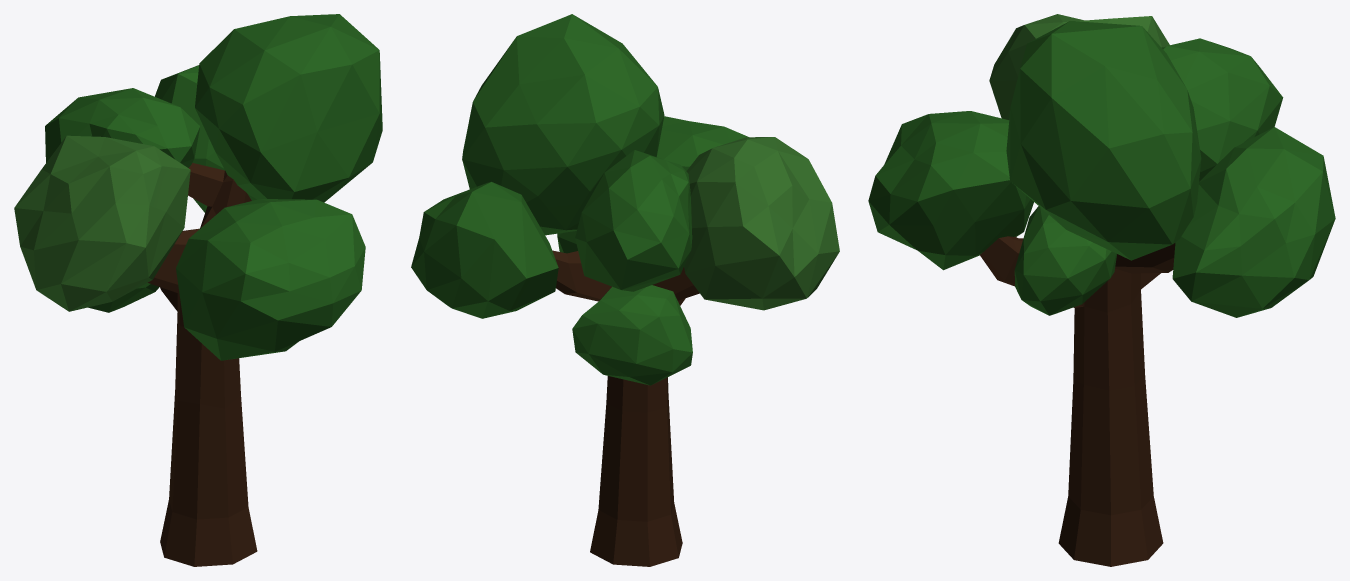
Rendered from Tree1.FBX.
3 views of the same model, side by side, from view 1: azimuth 30°, elevation 25°; view 2: azimuth 150°, elevation 25°; view 3: azimuth 270°, elevation 25° (orthographic). The views are drawn at different scales.
Visible parts, largest first — view 1: OakTree4; view 2: OakTree4; view 3: OakTree4.
Part boxes in pixels (x1,y1,x2,y2): OakTree4: [14, 14, 382, 566]; OakTree4: [411, 14, 839, 566]; OakTree4: [868, 14, 1335, 566].
Bounding box in the file's own units: 1218 × 1691 × 1280.
